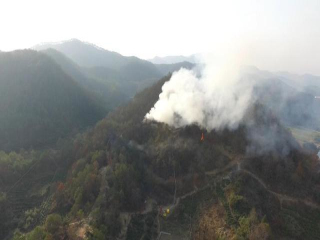smoke: (143, 46, 313, 151)
